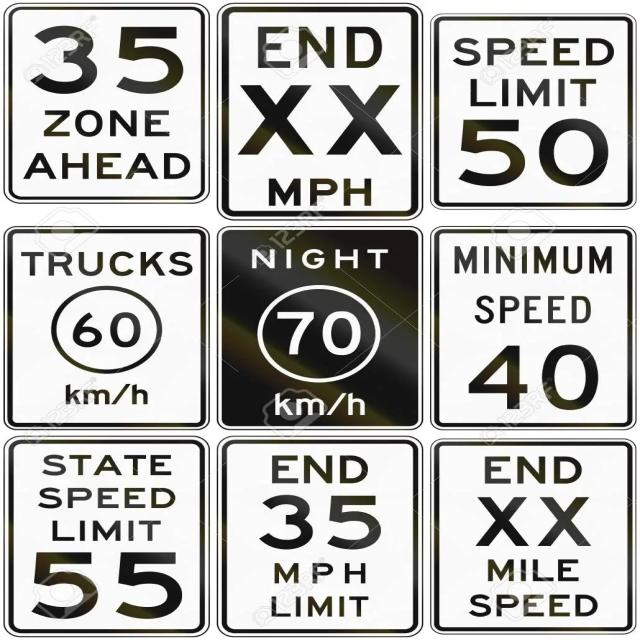speedLimit50: (428, 9, 635, 216)
